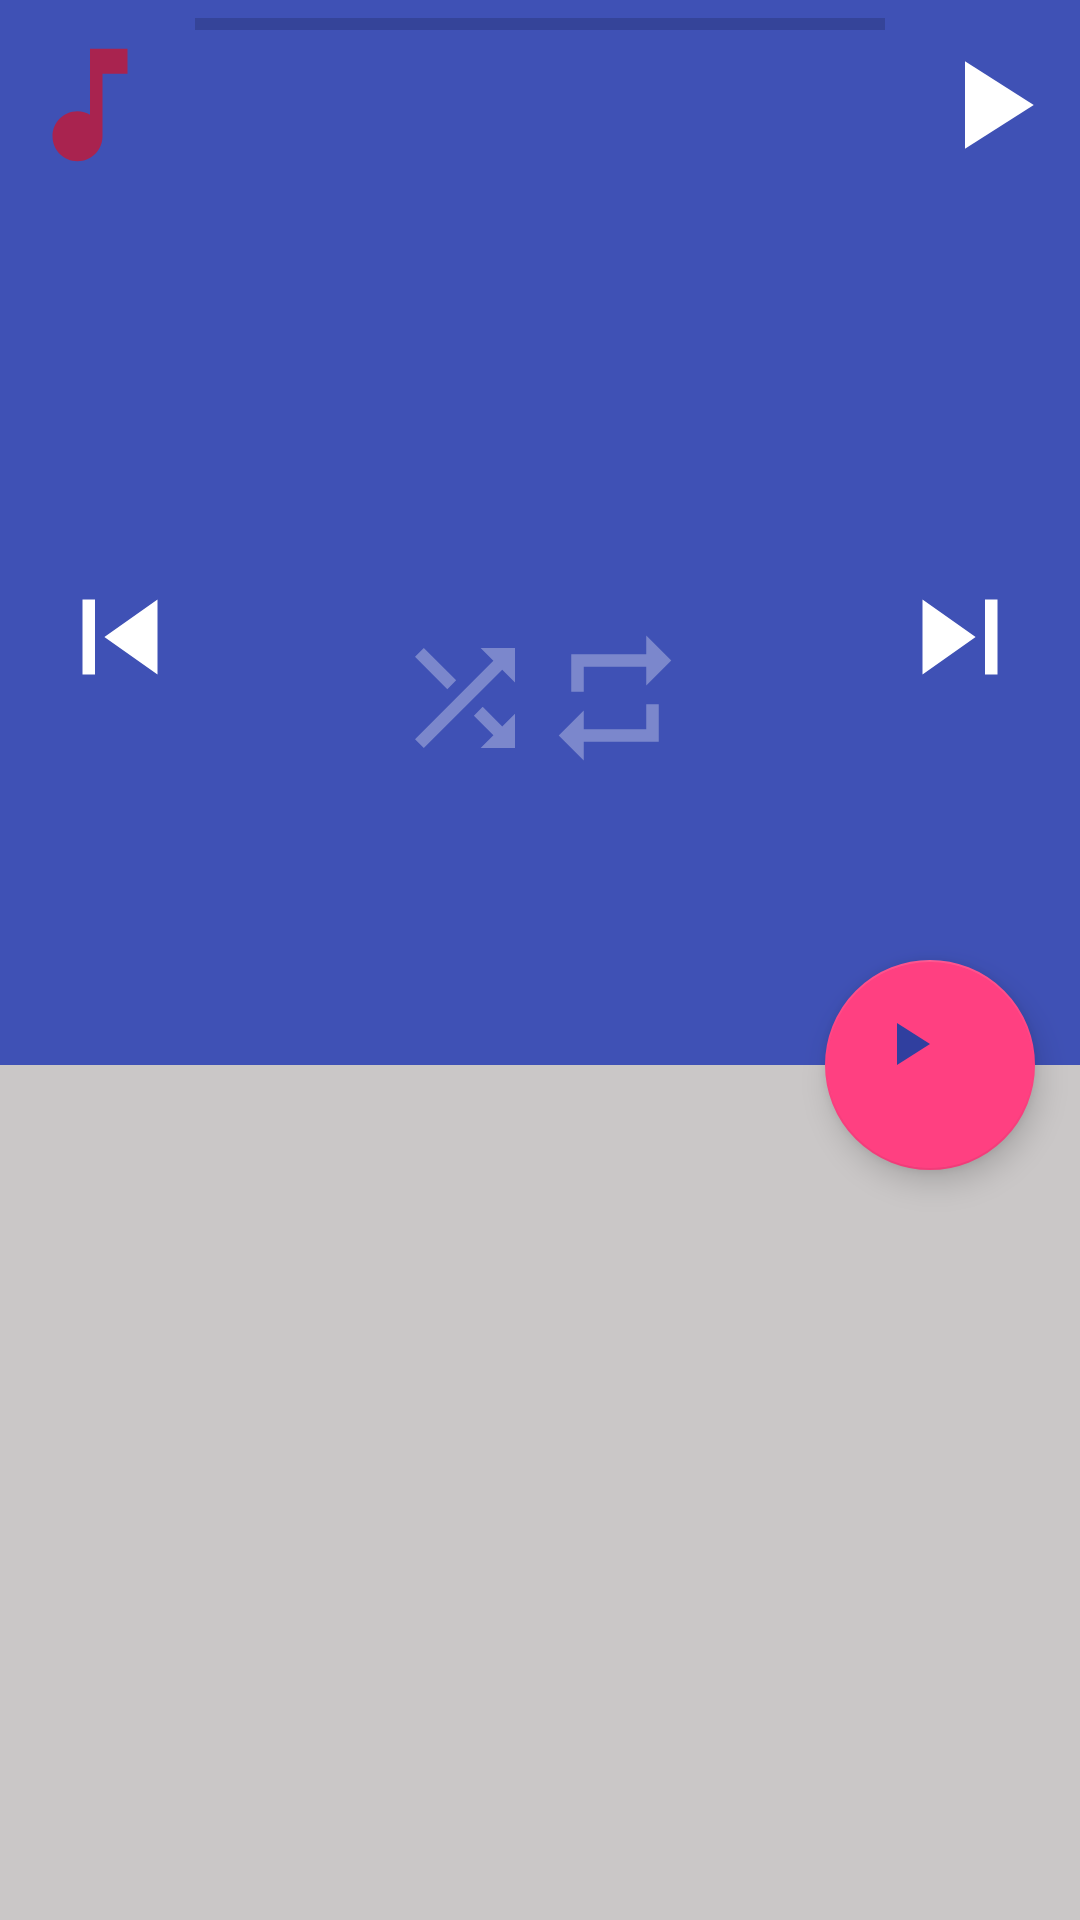

Icons on this 1080*1920 Android screen, each with the point to tap as point (x, y):
play: point (999, 105), point (930, 1065)
shuffle unavailable: point (465, 698)
skip next: point (960, 637)
skip previous: point (120, 637)
song: point (90, 104)
